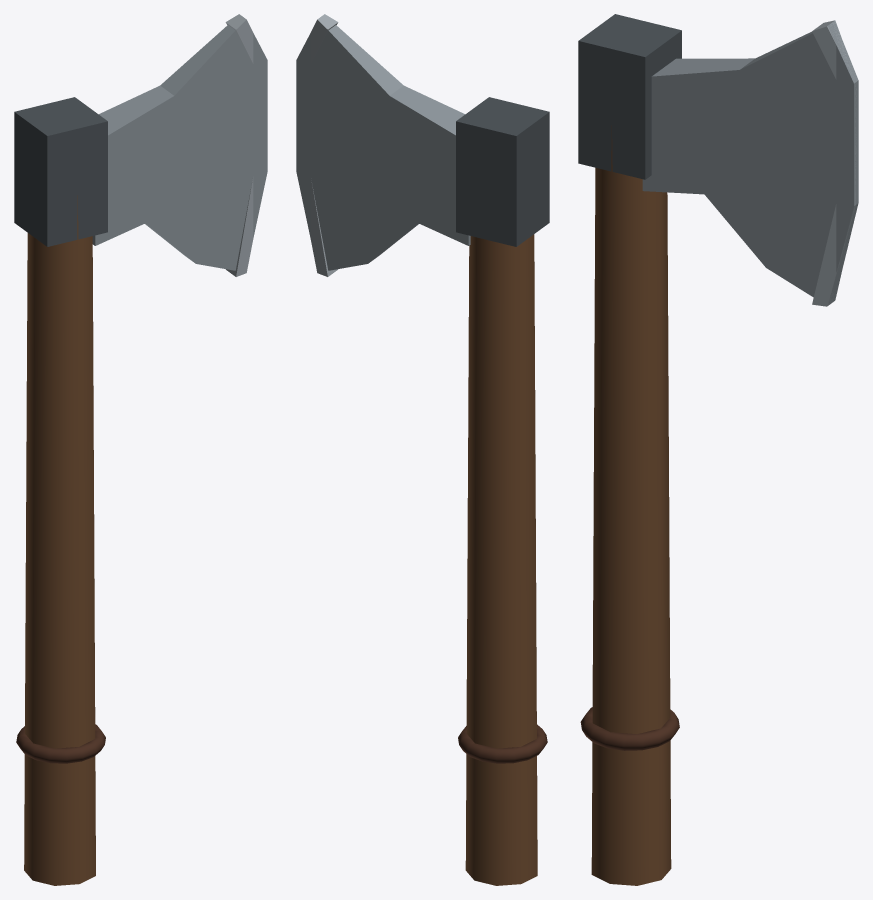
Rendered from handaxe.glb.
3 renders of one model, left to right at view 1: azimuth 30°, elevation 25°; view 2: azimuth 150°, elevation 25°; view 3: azimuth 330°, elevation 25°, orthographic. The views are drawn at different scales.
Parts seen in each view (by area): view 1: handaxe-haft, handaxe-blade, handaxe-eye, handaxe-haft-grip, handaxe-cutting-edge; view 2: handaxe-haft, handaxe-blade, handaxe-eye, handaxe-haft-grip, handaxe-cutting-edge; view 3: handaxe-haft, handaxe-blade, handaxe-eye, handaxe-cutting-edge, handaxe-haft-grip.
Boxes of the visible parts, x1,y1,x2,y2 form: handaxe-haft: (24, 195, 95, 885); handaxe-blade: (92, 25, 267, 270); handaxe-eye: (14, 97, 107, 246); handaxe-haft-grip: (16, 724, 105, 763); handaxe-cutting-edge: (225, 14, 253, 276); handaxe-haft: (465, 234, 537, 885); handaxe-blade: (296, 25, 470, 270); handaxe-eye: (456, 97, 549, 246); handaxe-haft-grip: (458, 724, 547, 763); handaxe-cutting-edge: (310, 14, 338, 276); handaxe-haft: (591, 125, 671, 885); handaxe-blade: (642, 21, 858, 305); handaxe-eye: (578, 14, 681, 179); handaxe-cutting-edge: (812, 20, 856, 306); handaxe-haft-grip: (580, 707, 679, 750).
Bounding box in the file's own units: 0.1064 × 0.3376 × 0.0342.
